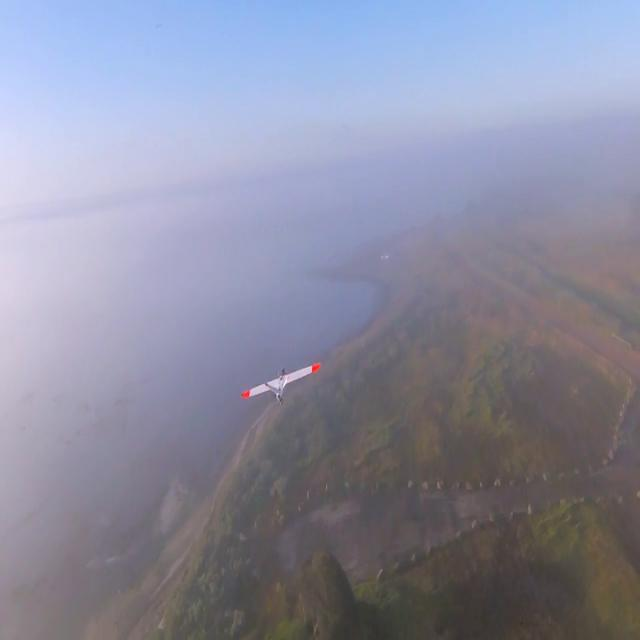iha: (272, 359, 286, 406)
